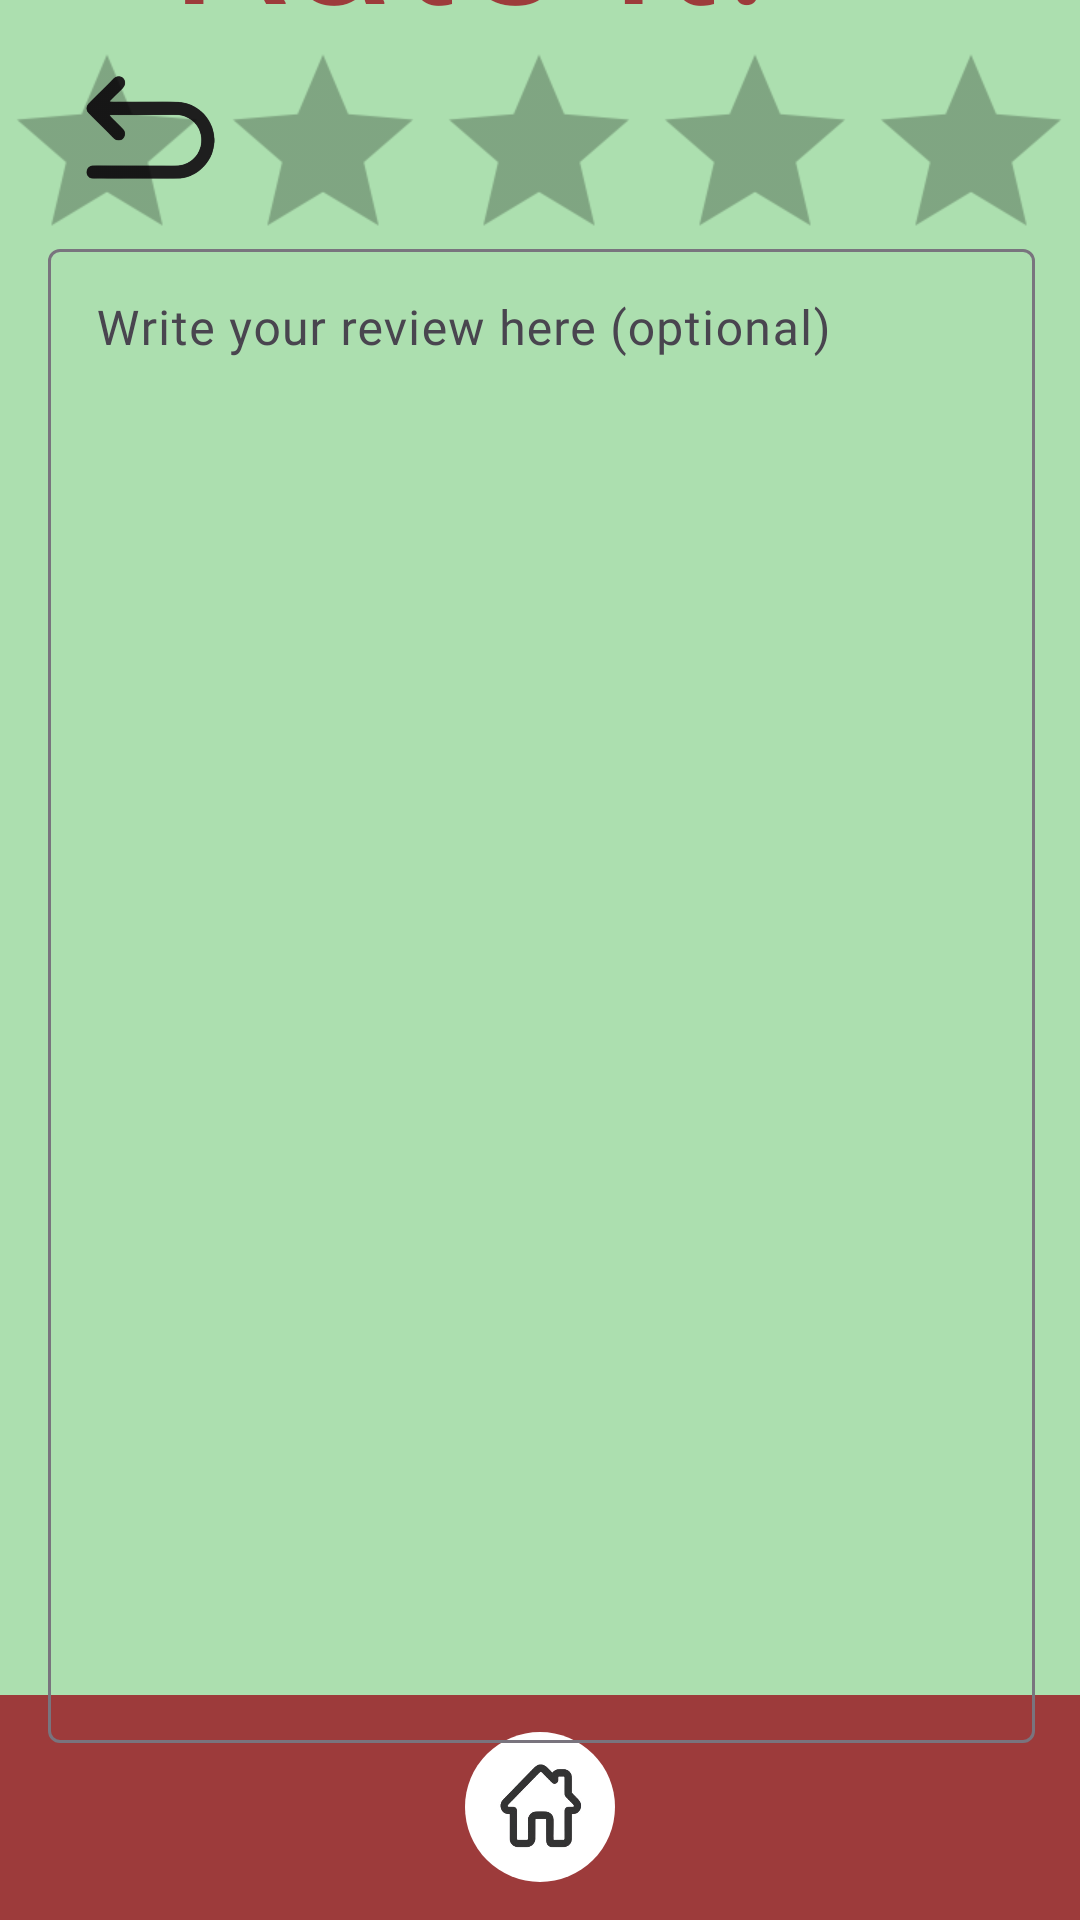

Where to tap for icons on this 1080 x 1920 app screen, as [x,y]:
back: [144,139]
Home: [540,1807]
